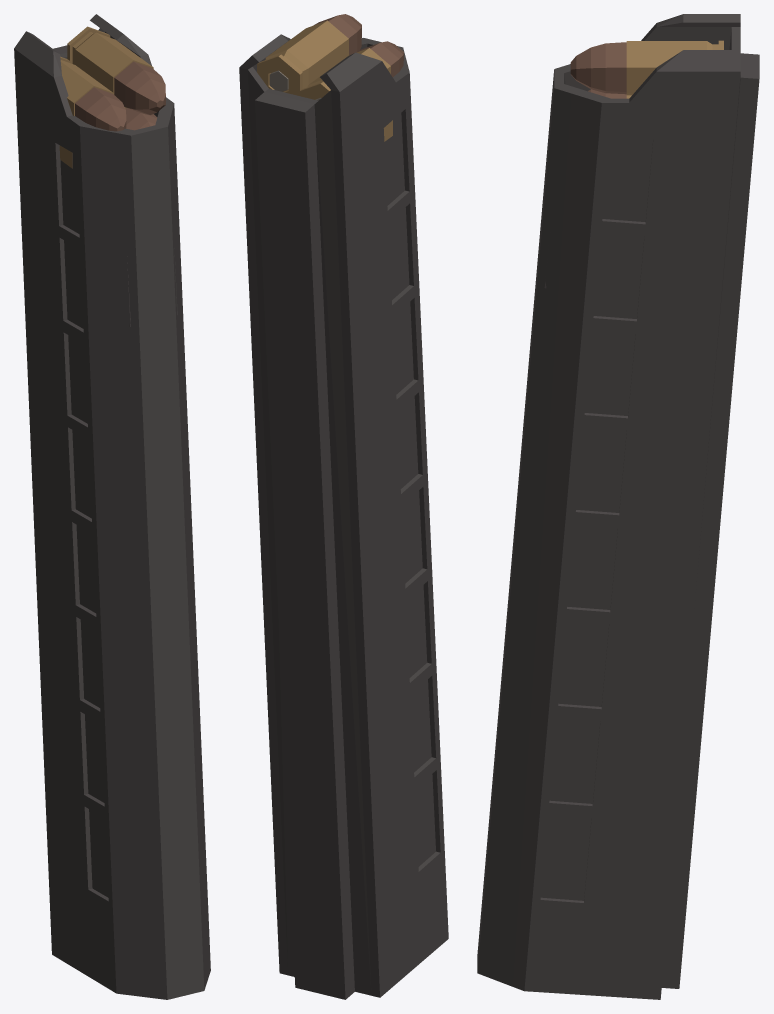
The model's file is SM_APC9_Magazine.fbx.
The picture shows the model from 3 angles, left to right: view 1: azimuth 30°, elevation 25°; view 2: azimuth 150°, elevation 25°; view 3: azimuth 270°, elevation 25°; orthographic projection. The views are drawn at different scales.
Visible parts, largest first — view 1: SM_APC9_Magazine; view 2: SM_APC9_Magazine; view 3: SM_APC9_Magazine.
Boxes of the visible parts, bbox=[...] form: SM_APC9_Magazine: bbox=[14, 14, 210, 999]; SM_APC9_Magazine: bbox=[239, 14, 448, 999]; SM_APC9_Magazine: bbox=[477, 14, 759, 999].
Bounding box in the file's own units: 2.2 × 19.89 × 5.38.
